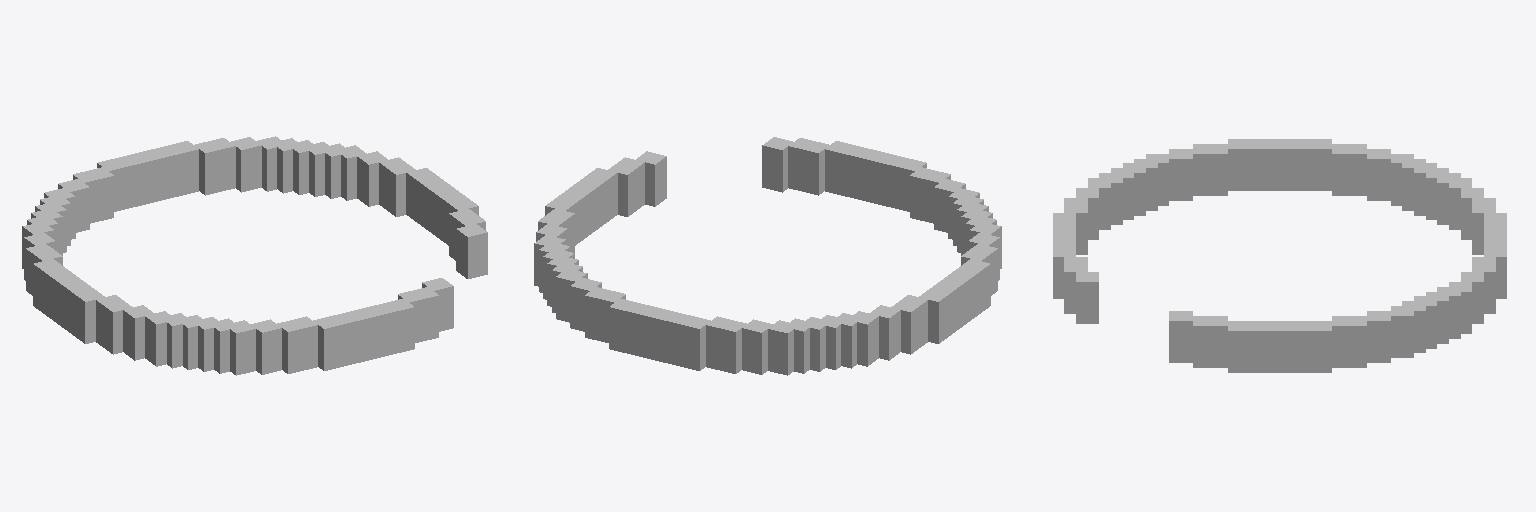
File: waist.obj
3 renders of one model, left to right at view 1: azimuth 30°, elevation 25°; view 2: azimuth 150°, elevation 25°; view 3: azimuth 270°, elevation 25°, orthographic.
Visible parts, largest first — view 1: object 1; view 2: object 1; view 3: object 1.
Part boxes in pixels (left/top/right/bottom): object 1: left=22, top=136, right=487, bottom=375; object 1: left=534, top=137, right=1001, bottom=375; object 1: left=1053, top=139, right=1506, bottom=372.
Bounding box in the file's own units: 3.9 × 0.4 × 3.9.